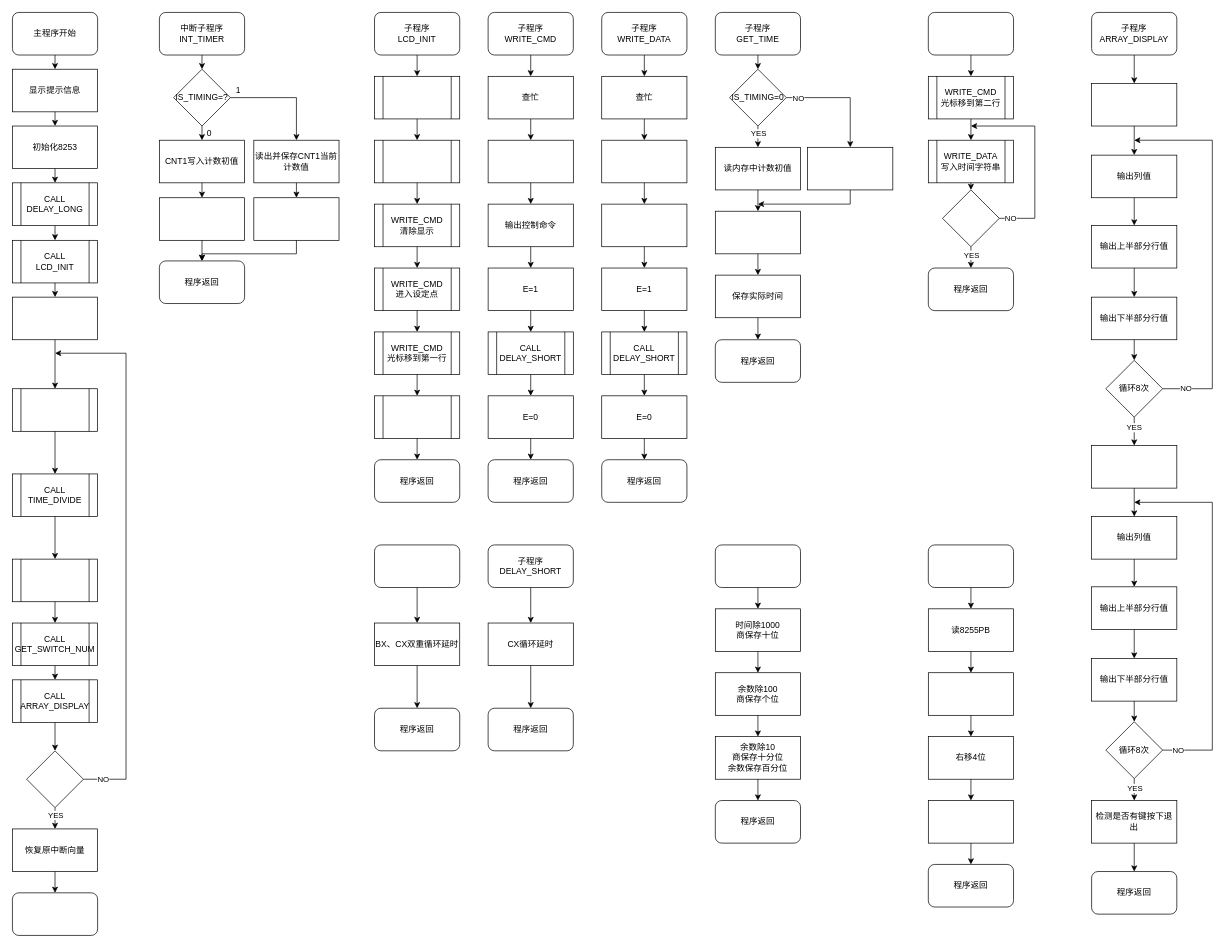
Some shapes in this 1230 by 948 pixel diagram are drawn without their labels. The centre of each missing label's shape, as x and y in pixels:
"0FFFFH减去得到的数值" goes at pixel 758 232.
"CALL GET_TIME" goes at pixel 55 409.
"CALL LCD_DISPLAY_TIME" goes at pixel 55 580.
"IS_TIMING置0" goes at pixel 296 218.
"IS_TIMING置1" goes at pixel 202 218.
"RS=0 RW=0" goes at pixel 530 161.
"RS=1 RW=0" goes at pixel 644 161.
"WRITE_CMD 功能设定" goes at pixel 417 97.
"WRITE_CMD 显示开关设置" goes at pixel 417 161.
"WRITE_DATA 写入标题" goes at pixel 417 416.
"主程序结束" goes at pixel 55 913.
"保存低位" goes at pixel 971 693.
"保存高位" goes at pixel 971 821.
"右边清零" goes at pixel 1134 104.
"子程序 DELAY_LONG" goes at pixel 417 566.
"子程序 GET_SWITCH_NUM" goes at pixel 971 566.
"子程序 LED_DISPLAY_TIME" goes at pixel 971 33.
"子程序 TIME_DIVIDE" goes at pixel 758 566.
"存储原中断向量 设置新中断向量" goes at pixel 55 318.
"左边清零" goes at pixel 1134 466.
"是否显示完" goes at pixel 970 218.
"是否有键按下" goes at pixel 54 779.
"读8253当前计数值" goes at pixel 850 168.
"输出显示字符" goes at pixel 644 225.
